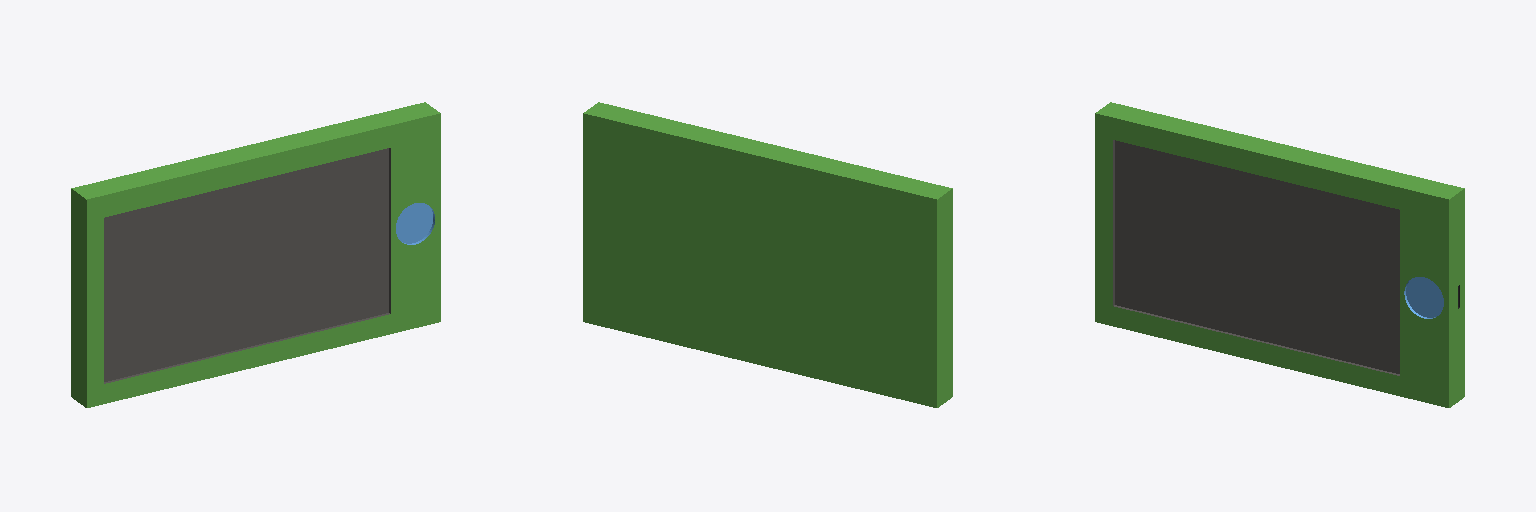
Rendered from phone2.obj.
3 renders of one model, left to right at view 1: azimuth 30°, elevation 25°; view 2: azimuth 150°, elevation 25°; view 3: azimuth 330°, elevation 25°, orthographic.
Visible parts, largest first — view 1: Object.2; view 2: Object.2; view 3: Object.2.
Part boxes in pixels (bbox=[...]): Object.2: bbox=[71, 102, 440, 407]; Object.2: bbox=[583, 102, 952, 407]; Object.2: bbox=[1095, 102, 1464, 407].
Size of the model in its own units: 23.29 by 13.22 by 1.74.